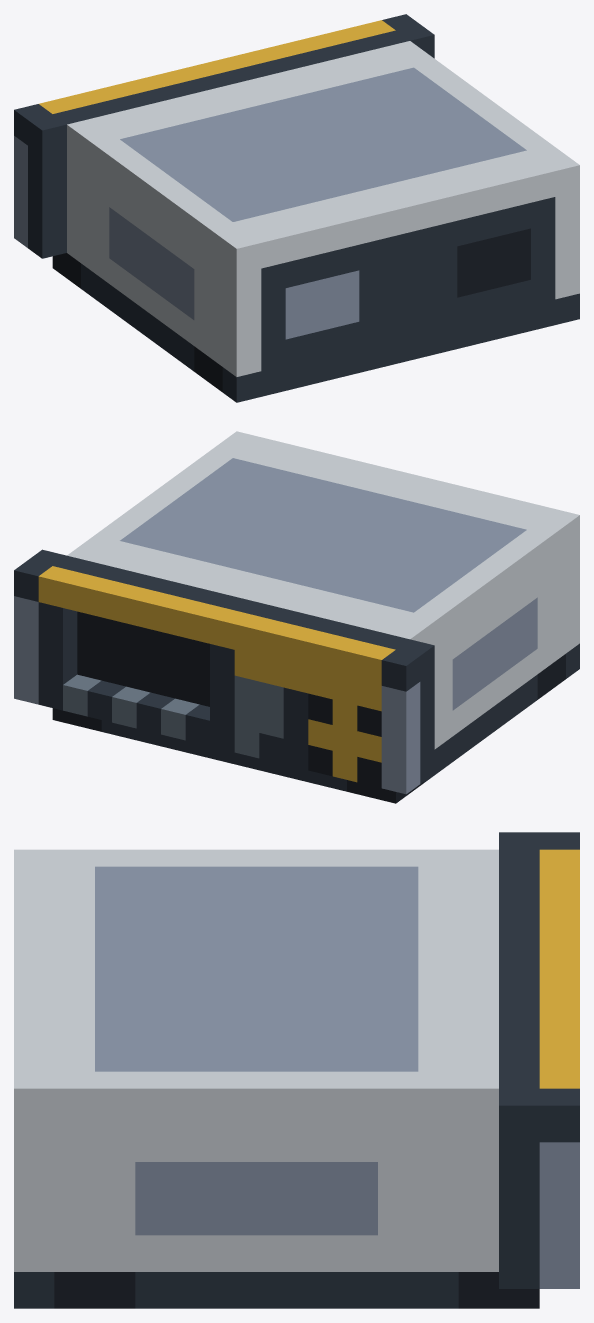
Rendered from ref_multimeter_8588a.glb.
3 views of the same model, one above another, from view 1: azimuth 30°, elevation 25°; view 2: azimuth 150°, elevation 25°; view 3: azimuth 270°, elevation 25° (orthographic). The views are drawn at different scales.
Parts seen in each view (by area): view 1: prop; view 2: prop; view 3: prop.
Boxes of the visible parts, left/top/right/bottom form: prop: left=14, top=14, right=579, bottom=402; prop: left=14, top=431, right=579, bottom=803; prop: left=14, top=832, right=579, bottom=1308.
Bounding box in the file's own units: 16 × 6 × 14.
